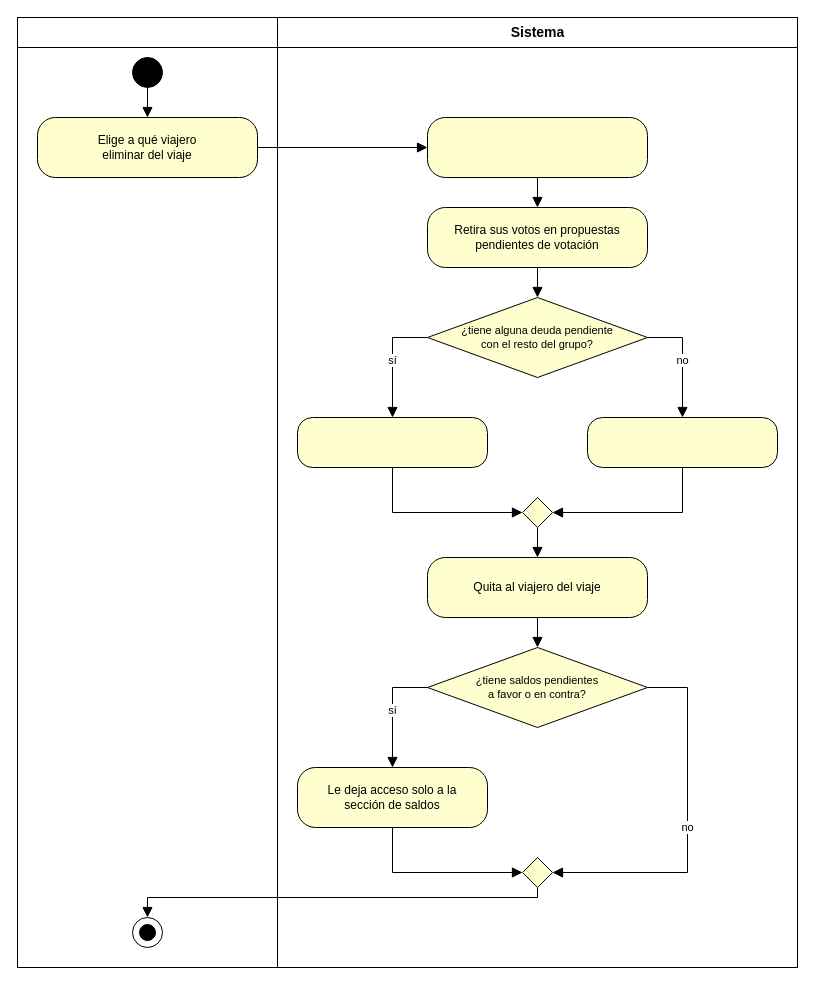
Image size: 815x986. Some labels were removed from this diagram. Here are the shapes that lost their labels. From the top down, the centre of each, then its label:
At pixel 147 32: "Admin".
At pixel 537 147: "Conserva su historial de gastos, deudas, mensajes y propuestas".
At pixel 392 442: "Registra la baja con deuda".
At pixel 682 442: "Registra la baja sin deuda".
